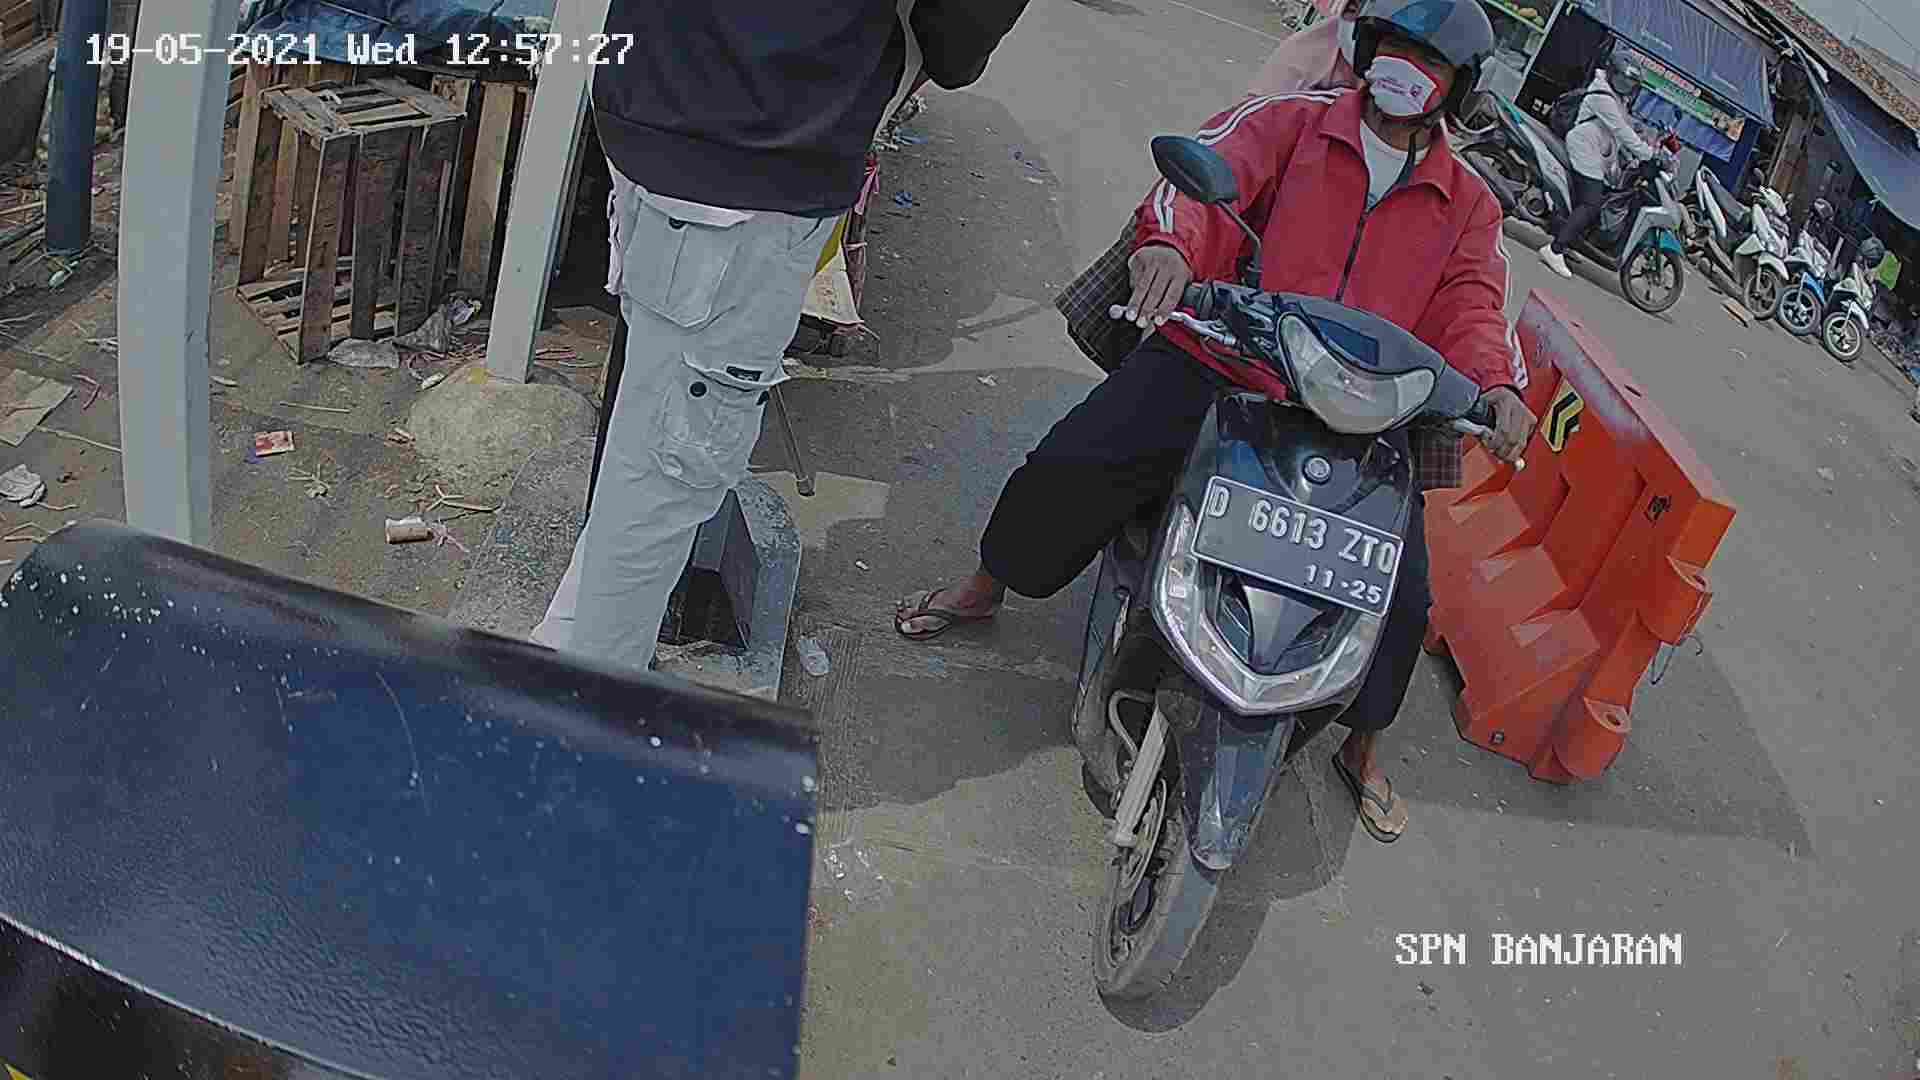motor: (1026, 256, 1478, 1033)
